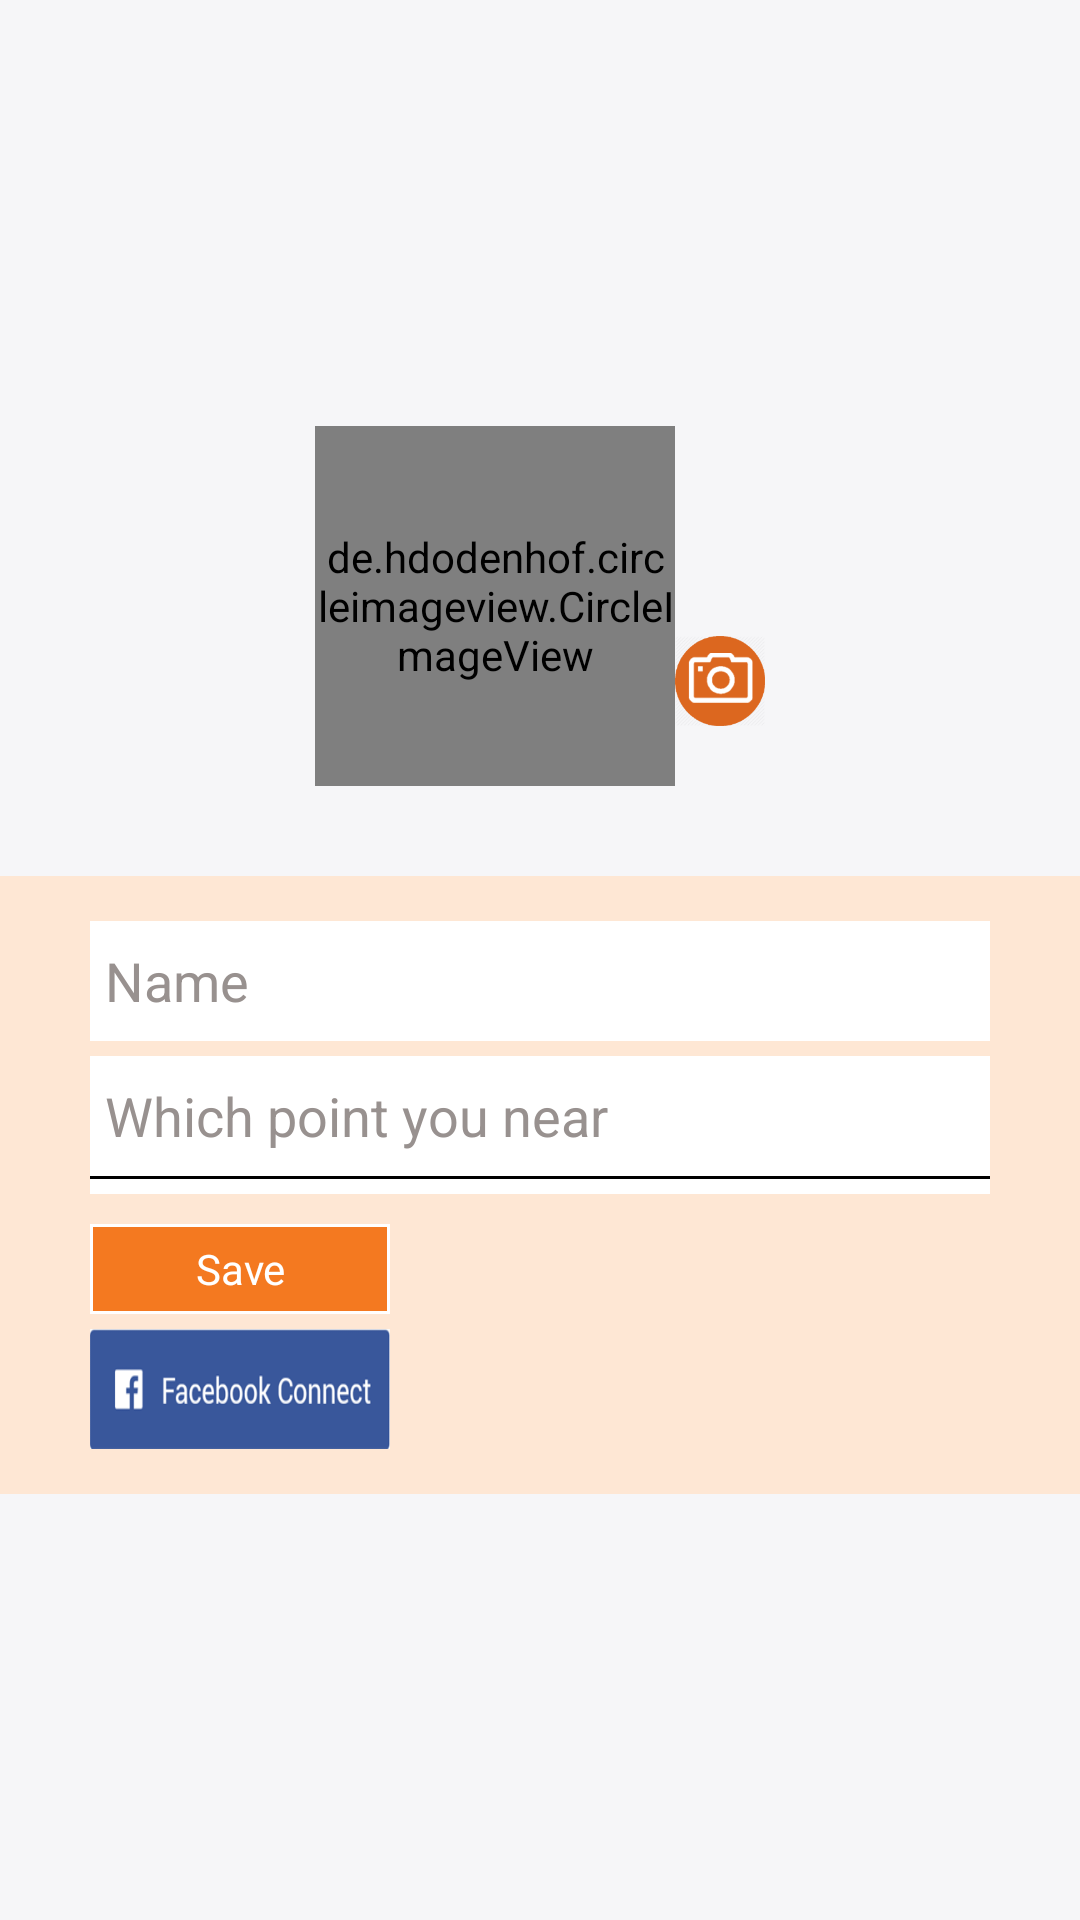

Screen size 1080 × 1920. Icon name, then its center in pixels as [x,y]:
camera: [720,681]
